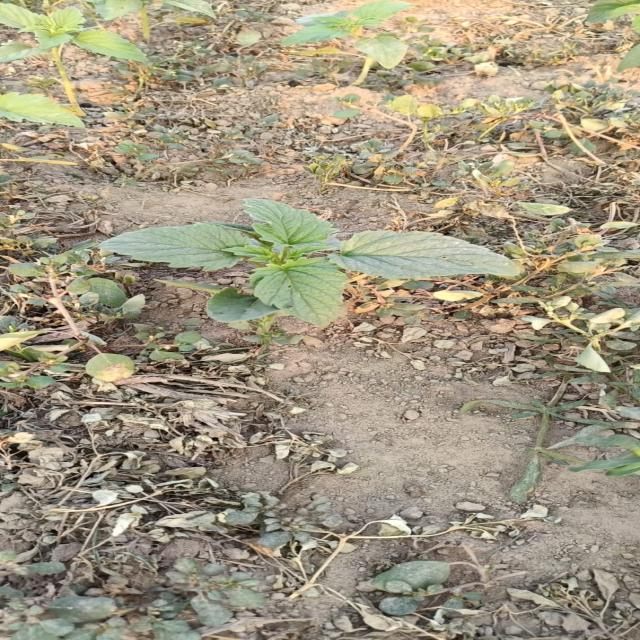plant: (98, 199, 522, 326)
